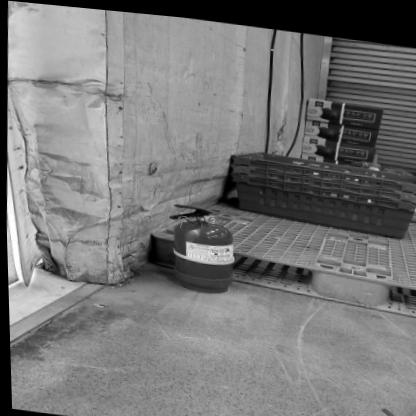FE: (163, 198, 232, 291)
